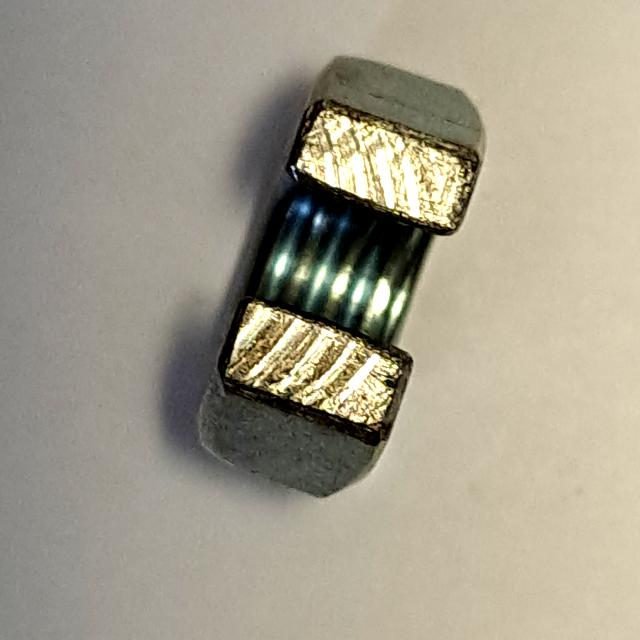Side-Fracture: (183, 45, 494, 513)
